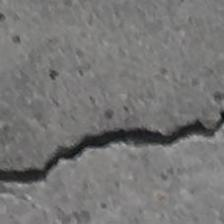Crack: (0, 80, 224, 201)
